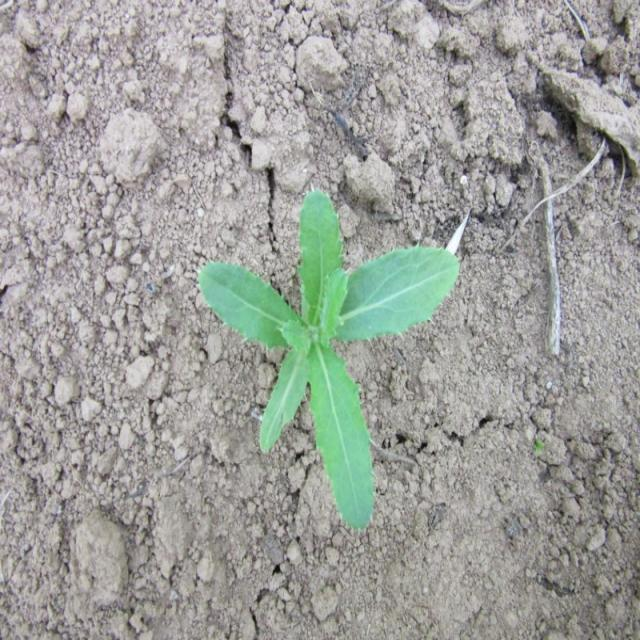field_thistle: (192, 189, 465, 531)
